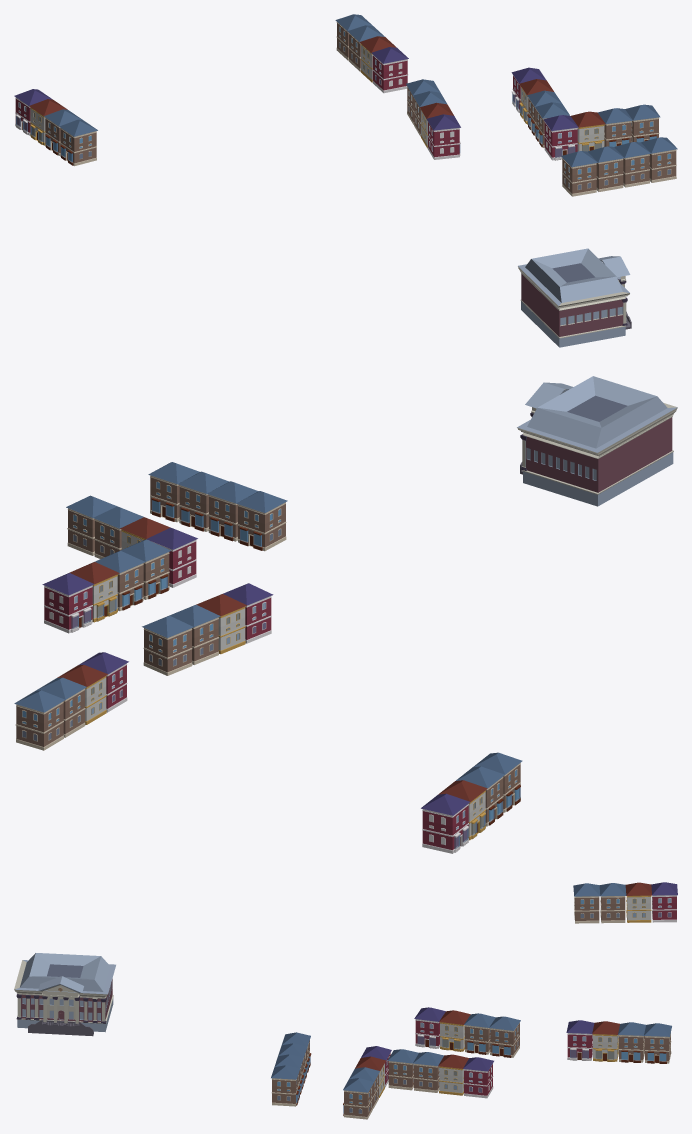
File: Grote Markt Map.fbx
The picture shows the model from 3 angles, top to bottom: view 1: azimuth 30°, elevation 25°; view 2: azimuth 150°, elevation 25°; view 3: azimuth 270°, elevation 25°; orthographic projection. The views are drawn at different scales.
Parts seen in each view (by area): view 1: STADHUIS, House ROw, HR2.001, HR2.004, HR2.003, HR2.002, HR2; view 2: STADHUIS, House ROw, HR2.002, HR2, HR2.003, HR2.004, HR2.001; view 3: STADHUIS, HR2.002, HR2.003, HR2, HR2.004, HR2.001, House ROw.
Boxes of the visible parts, <box> form: STADHUIS: <box>518,248,631,347</box>; House ROw: <box>561,137,677,196</box>; HR2.001: <box>543,104,660,160</box>; HR2.004: <box>14,89,97,166</box>; HR2.003: <box>335,14,408,93</box>; HR2.002: <box>406,79,460,159</box>; HR2: <box>511,67,569,147</box>; STADHUIS: <box>517,376,677,506</box>; House ROw: <box>148,462,287,551</box>; HR2.002: <box>142,583,273,675</box>; HR2: <box>42,539,170,633</box>; HR2.003: <box>14,652,128,750</box>; HR2.004: <box>421,752,522,853</box>; HR2.001: <box>66,495,197,587</box>; STADHUIS: <box>14,953,115,1036</box>; HR2.002: <box>414,1007,520,1057</box>; HR2.003: <box>566,1020,671,1063</box>; HR2: <box>387,1049,493,1098</box>; HR2.004: <box>573,882,677,923</box>; HR2.001: <box>343,1046,391,1119</box>; House ROw: <box>271,1032,311,1106</box>.
Size of what is drawn, in the model's own units: 127 by 14.83 by 171.
